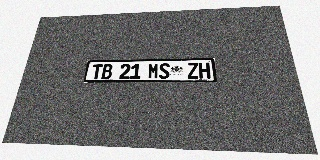plate: (84, 58, 217, 83)
